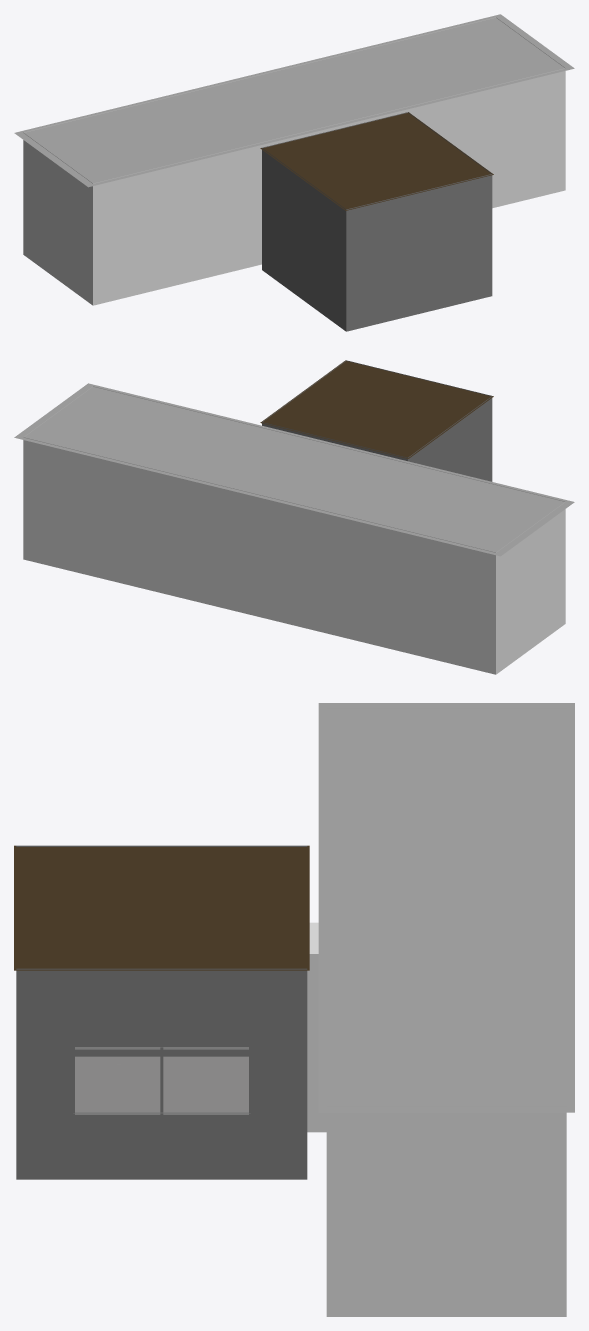
The model's file is Hospital_With_Windows.fbx.
3 renders of one model, top to bottom at view 1: azimuth 30°, elevation 25°; view 2: azimuth 150°, elevation 25°; view 3: azimuth 270°, elevation 25°, orthographic. The views are drawn at different scales.
Visible parts, largest first — view 1: Room_003__Floor_Boards_:Rooms, Room_003__Floor_Boards_:Lab_Ceiling, Room_003__Floor_Boards_:Basement_Ceiling; view 2: Room_003__Floor_Boards_:Rooms, Room_003__Floor_Boards_:Lab_Ceiling, Room_003__Floor_Boards_:Basement_Ceiling; view 3: Room_003__Floor_Boards_:Rooms, Room_003__Floor_Boards_:Lab_Ceiling, Room_003__Floor_Boards_:Basement_Ceiling.
Boxes of the visible parts, bbox=[...] form: Room_003__Floor_Boards_:Rooms: bbox=[23, 17, 565, 331]; Room_003__Floor_Boards_:Lab_Ceiling: bbox=[14, 14, 574, 187]; Room_003__Floor_Boards_:Basement_Ceiling: bbox=[260, 112, 493, 210]; Room_003__Floor_Boards_:Rooms: bbox=[23, 360, 565, 674]; Room_003__Floor_Boards_:Lab_Ceiling: bbox=[14, 383, 574, 556]; Room_003__Floor_Boards_:Basement_Ceiling: bbox=[260, 360, 493, 458]; Room_003__Floor_Boards_:Rooms: bbox=[16, 708, 566, 1316]; Room_003__Floor_Boards_:Lab_Ceiling: bbox=[318, 703, 574, 1112]; Room_003__Floor_Boards_:Basement_Ceiling: bbox=[14, 845, 309, 970].
Bounding box in the file's own units: 1000 × 240 × 579.
3 materials, 2 textured.
